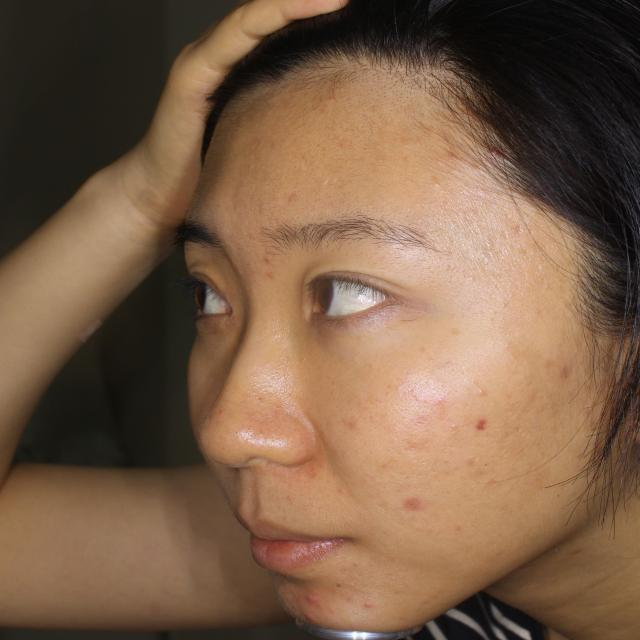acne: (391, 485, 432, 516), (300, 590, 330, 614)
